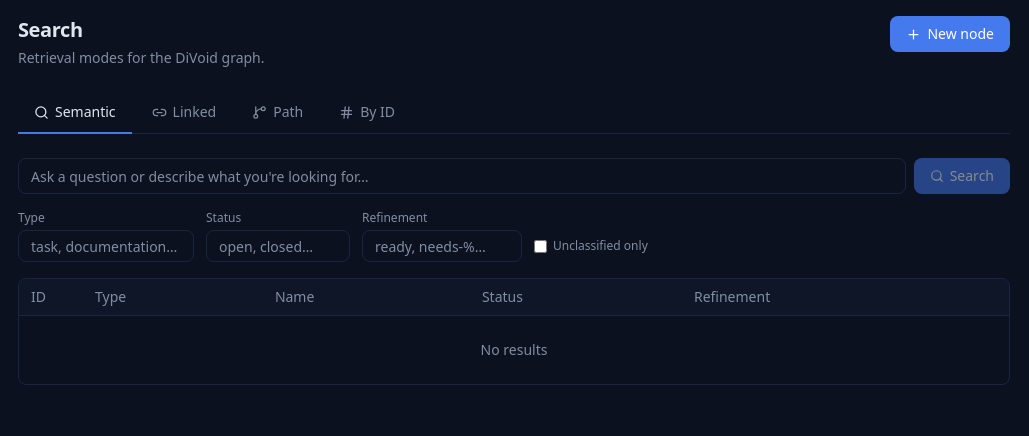
SearchPage › semantic tab shows results after submitting a query
Type "auth token" into the search field named "semantic search query".
click(462, 176); type("auth token")  # box [18,158,906,194]
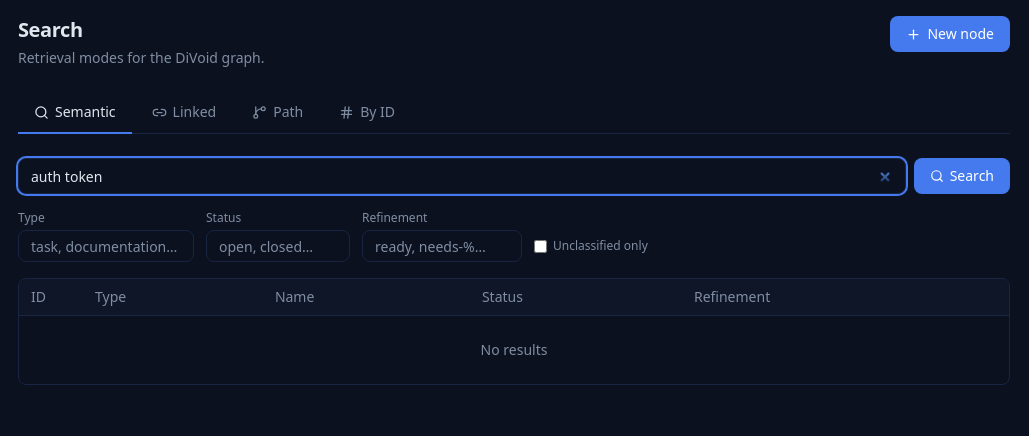
Click the button "Search".
click(962, 176)  # box [914,158,1010,194]
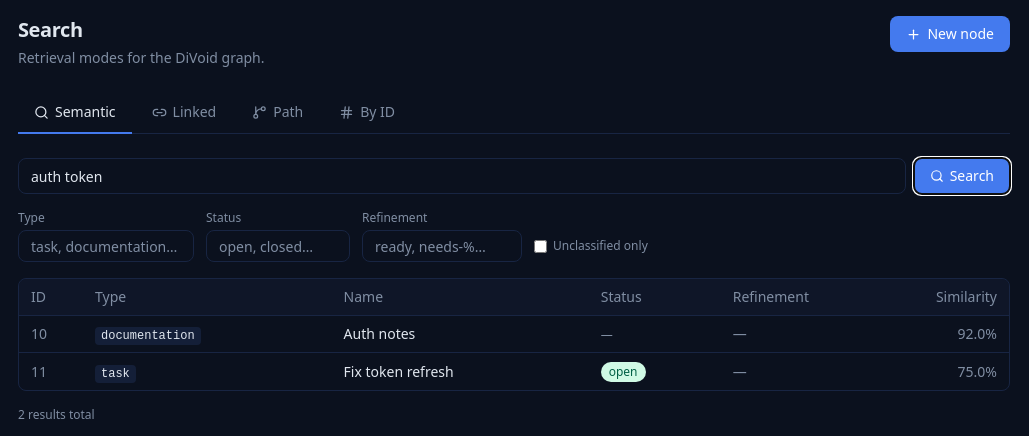
Expected: the link "Auth notes" is shown, [344,324,415,343]
